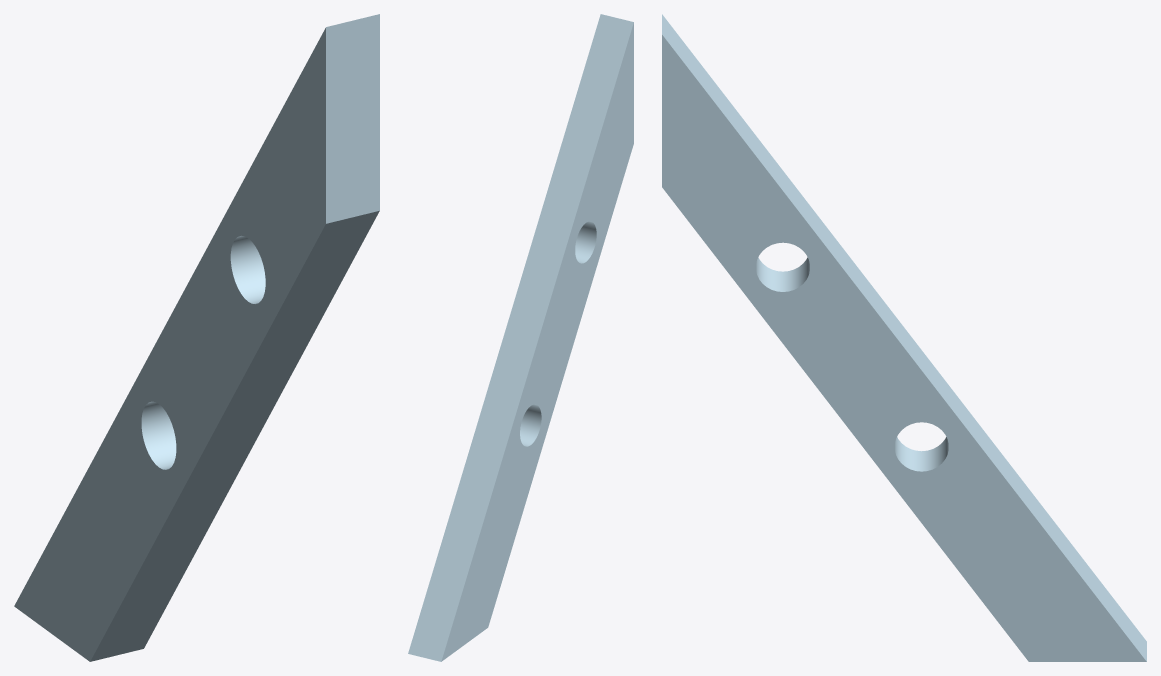
The model's file is 1323 - upright.gltf.
The picture shows the model from 3 angles, left to right: view 1: azimuth 30°, elevation 25°; view 2: azimuth 150°, elevation 25°; view 3: azimuth 270°, elevation 25°; orthographic projection. The views are drawn at different scales.
Visible parts, largest first — view 1: upright; view 2: upright; view 3: upright.
Boxes of the visible parts, x1,y1,x2,y2 form: upright: (14,14,379,661); upright: (408,14,633,661); upright: (662,14,1146,661).
Size of the model in its own units: 0.0254 by 0.3636 by 0.2546.
